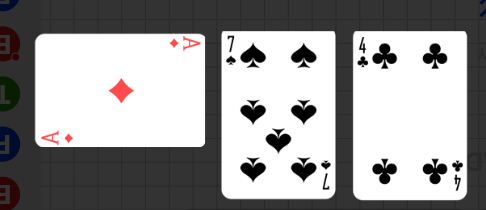4C: (449, 158, 463, 192)
AD: (40, 127, 76, 144), (166, 37, 201, 53)
